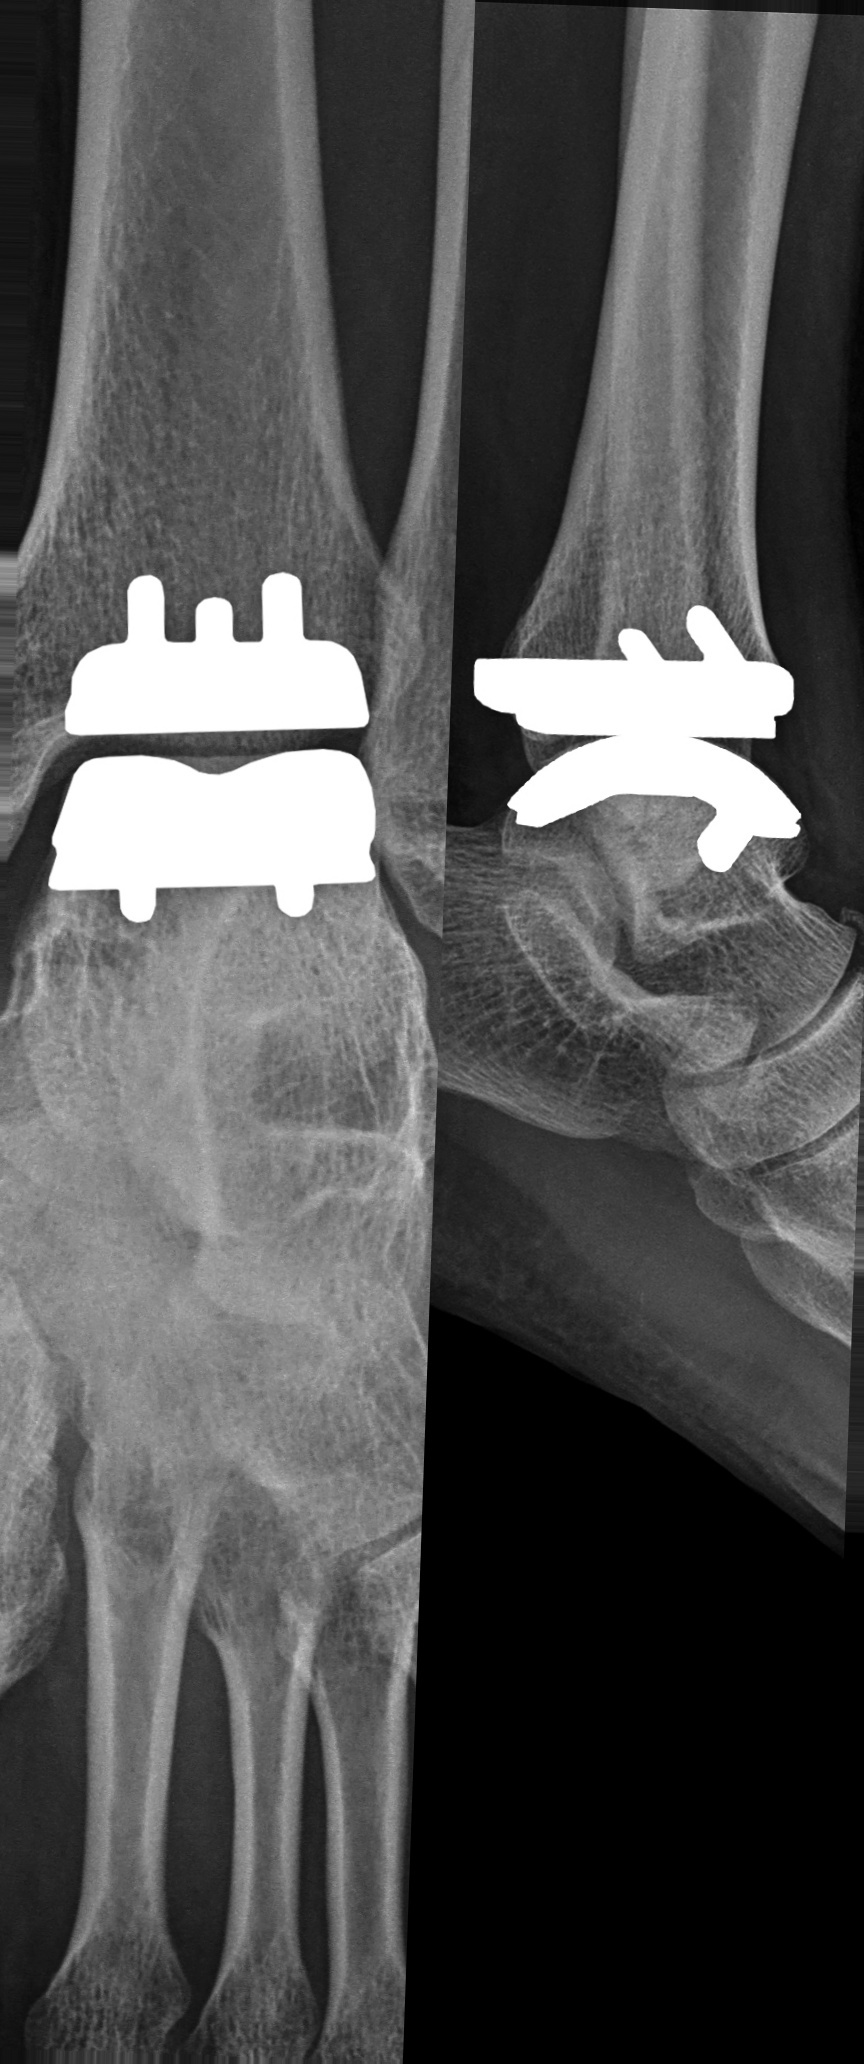Ankle - Infinity - Wright: (38, 566, 392, 948), (458, 598, 824, 885)
